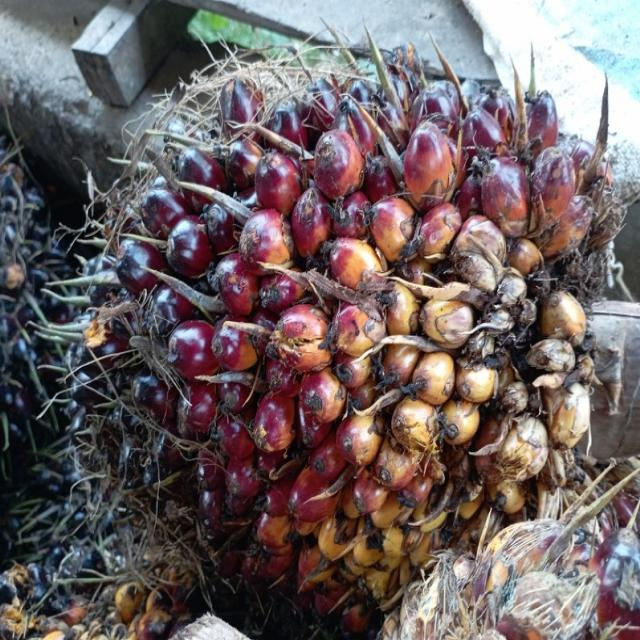fraksi 1: (63, 32, 618, 629)
